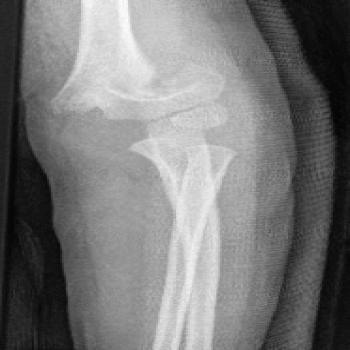Fracture: (119, 116, 259, 163)
